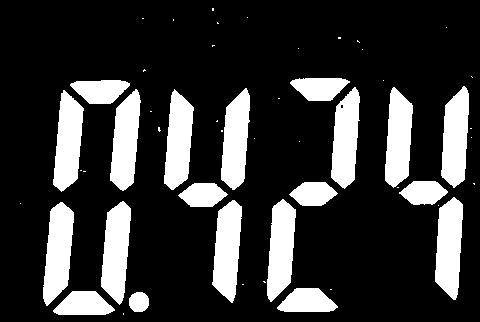0: (41, 78, 142, 316)
2: (265, 73, 361, 317)
4: (162, 80, 253, 306), (380, 82, 472, 302)
dot: (130, 289, 151, 313)
